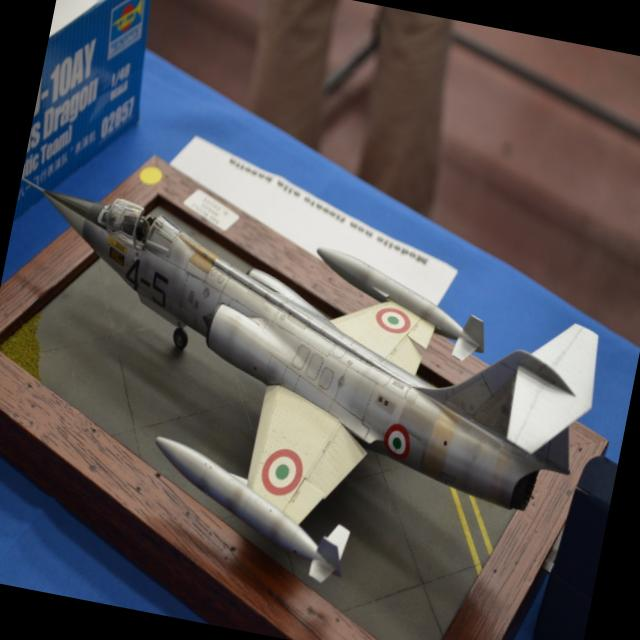rocket: (0, 175, 616, 604)
